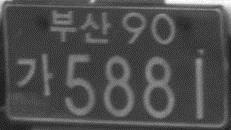0: (150, 12, 175, 44)
1: (192, 55, 206, 122)
5: (63, 51, 96, 116)
8: (102, 55, 135, 117), (143, 55, 174, 118)
9: (120, 10, 148, 45)
가: (15, 53, 55, 96)
부산_O: (48, 7, 111, 45)
